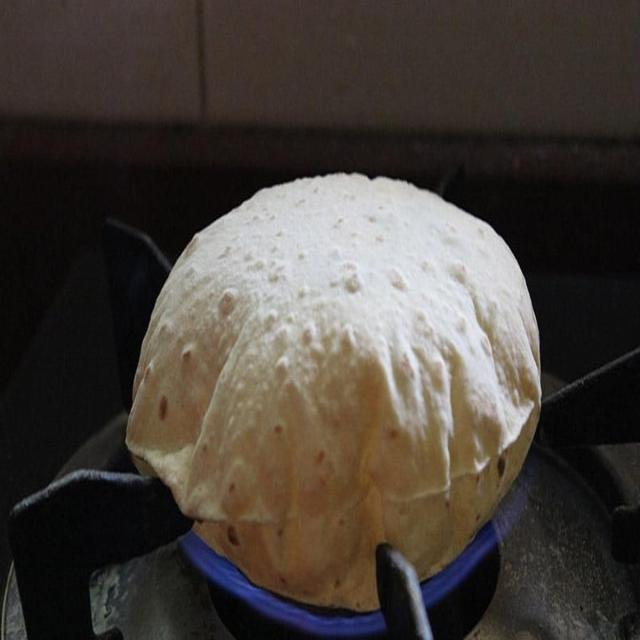ROTI: (126, 174, 540, 612)
